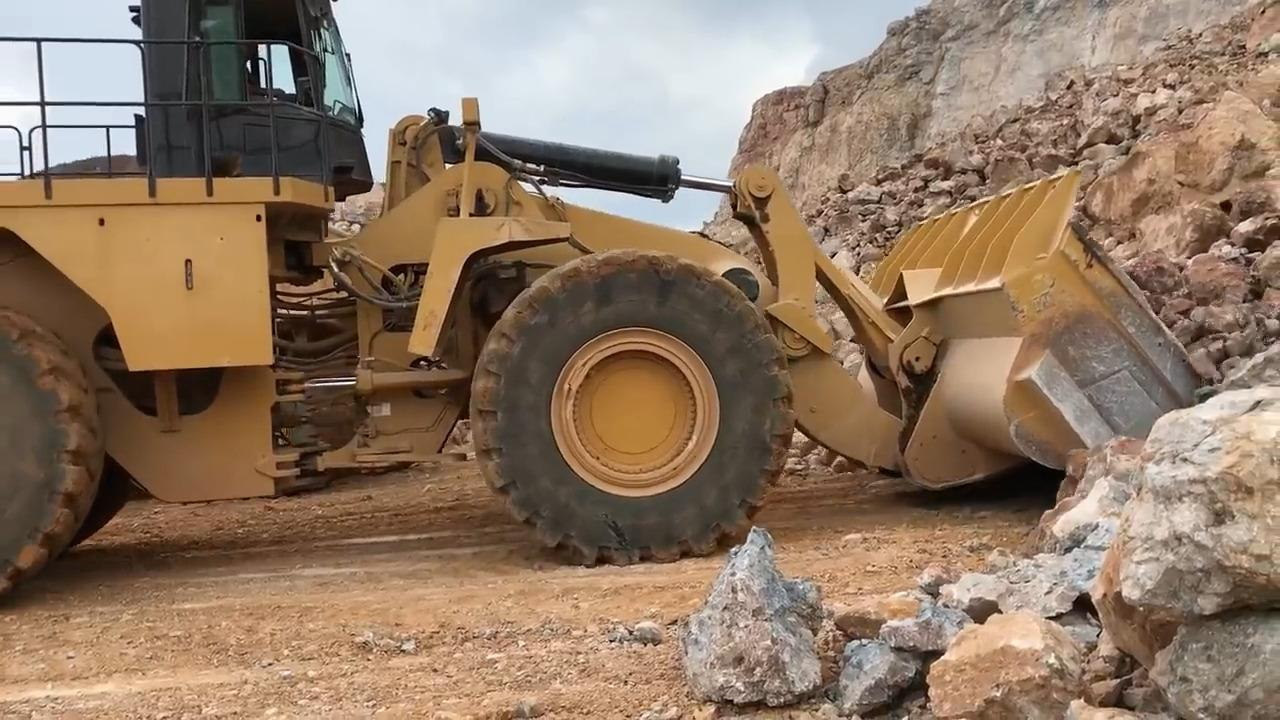wheel loader: (0, 0, 1279, 613)
